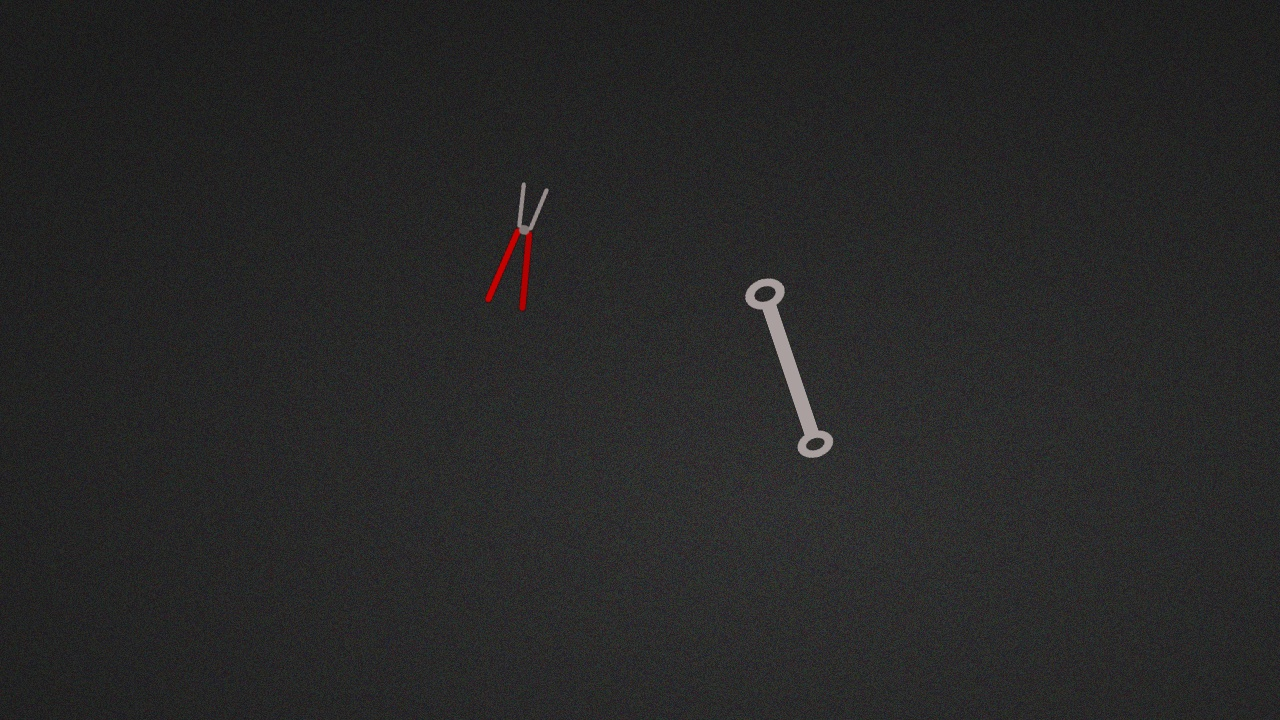pliers: (482, 179, 550, 313)
wrench: (742, 276, 835, 460)
